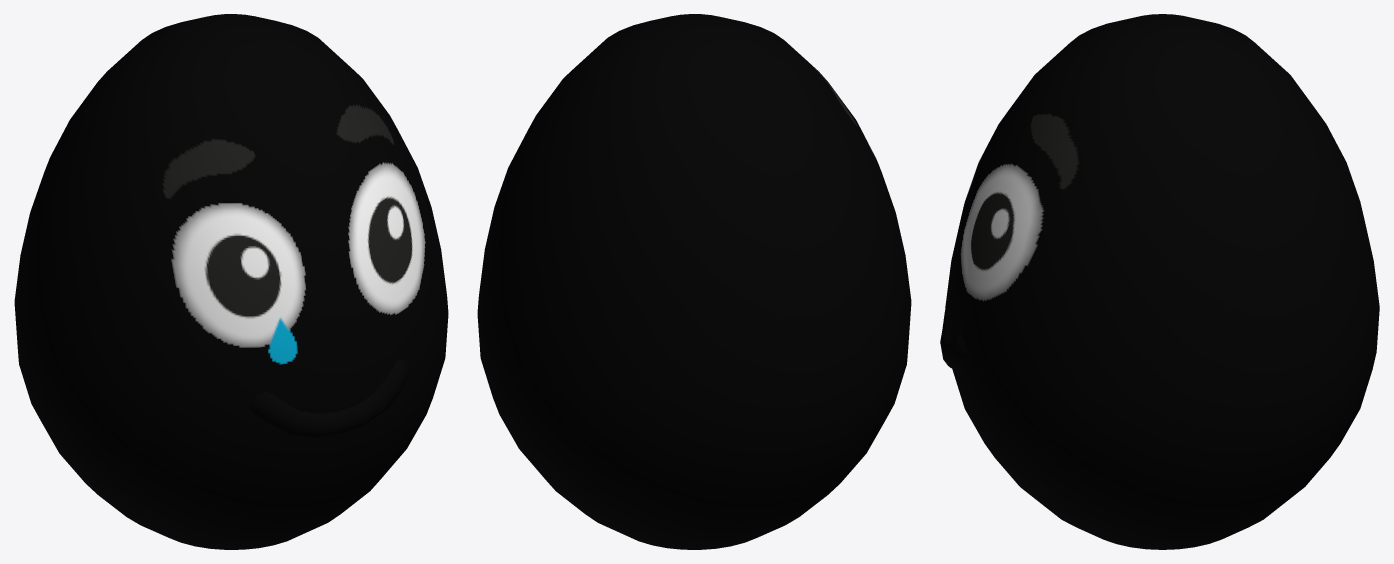
The model's file is Cracked_Egg_V1_05.fbx.
The picture shows the model from 3 angles, left to right: view 1: azimuth 30°, elevation 25°; view 2: azimuth 150°, elevation 25°; view 3: azimuth 270°, elevation 25°; orthographic projection.
Parts seen in each view (by area): view 1: Cracked_Egg_V1_02, Cracked_Egg_Mouth_V1_00; view 2: Cracked_Egg_V1_02; view 3: Cracked_Egg_V1_02, Cracked_Egg_Mouth_V1_00.
Boxes of the visible parts, left/top/right/bottom form: Cracked_Egg_V1_02: left=14, top=14, right=448, bottom=549; Cracked_Egg_Mouth_V1_00: left=249, top=359, right=409, bottom=438; Cracked_Egg_V1_02: left=477, top=14, right=911, bottom=549; Cracked_Egg_V1_02: left=945, top=14, right=1379, bottom=549; Cracked_Egg_Mouth_V1_00: left=940, top=310, right=967, bottom=370.
Bounding box in the file's own units: 2.05 × 2.65 × 2.08.
Materials: 3 (1 with a texture image).
